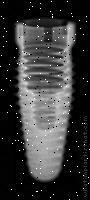Camlog: (14, 18, 77, 185)
